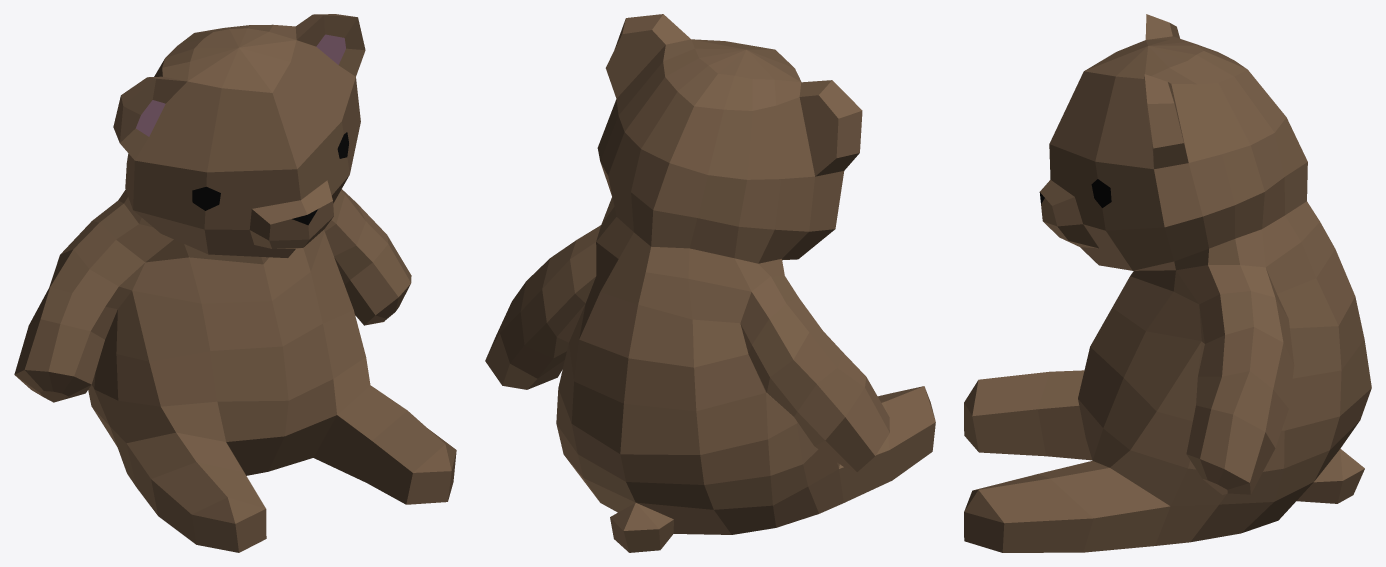
Rendered from teddybear.glb.
The picture shows the model from 3 angles, left to right: view 1: azimuth 30°, elevation 25°; view 2: azimuth 150°, elevation 25°; view 3: azimuth 270°, elevation 25°; orthographic projection. The views are drawn at different scales.
Parts seen in each view (by area): view 1: Plane; view 2: Plane; view 3: Plane.
Boxes of the visible parts, x1=… form: Plane: x1=14, y1=14, x2=456, y2=552; Plane: x1=485, y1=14, x2=935, y2=552; Plane: x1=964, y1=14, x2=1371, y2=552.
Size of the model in its own units: 5.86 by 6.35 by 5.15.
